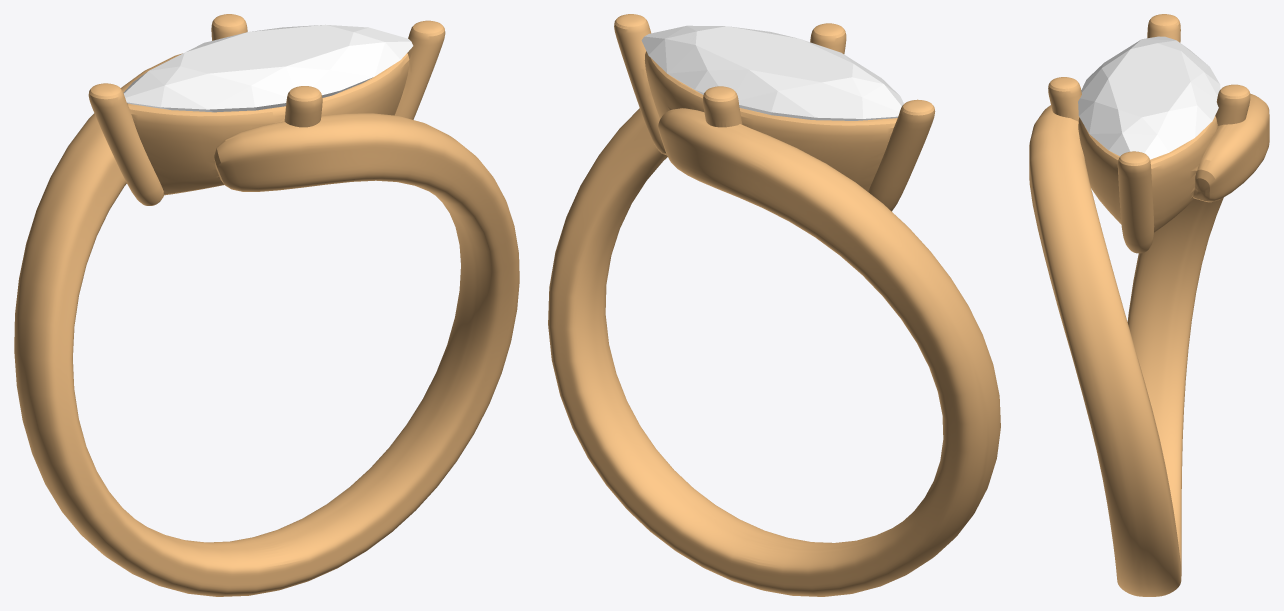
The picture shows the model from 3 angles, left to right: view 1: azimuth 30°, elevation 25°; view 2: azimuth 150°, elevation 25°; view 3: azimuth 270°, elevation 25°; orthographic projection. The views are drawn at different scales.
Bounding box in the file's own units: 2.55 × 2.82 × 1.24.
